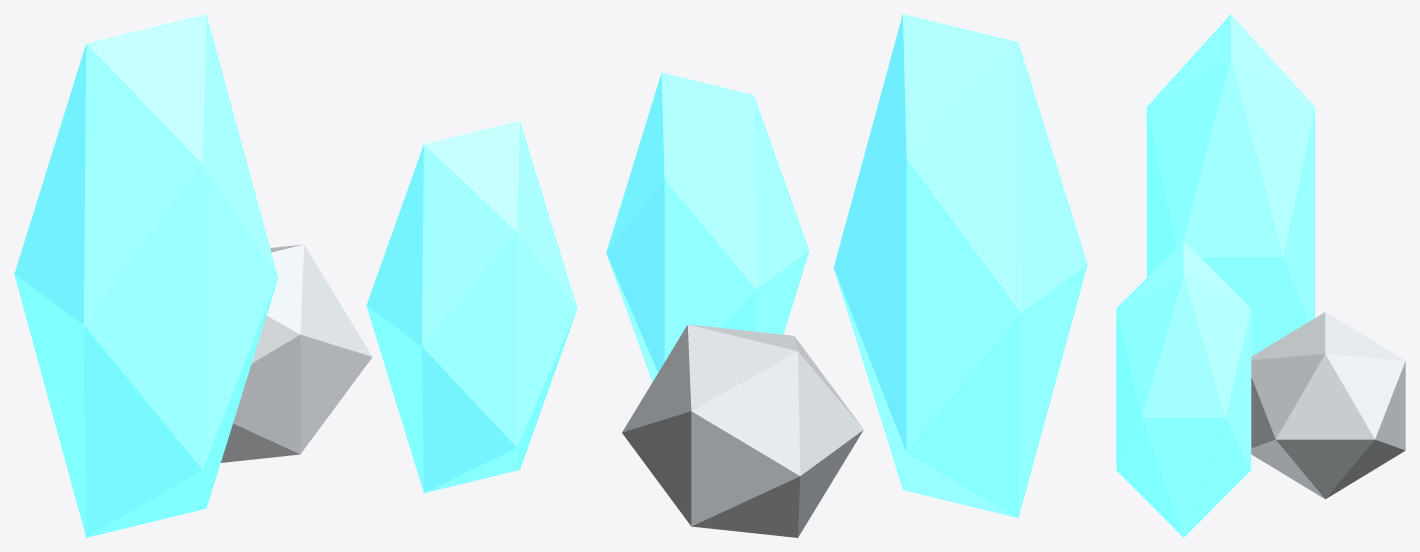
File: deco_ice_3.glb
3 views of the same model, side by side, from view 1: azimuth 30°, elevation 25°; view 2: azimuth 150°, elevation 25°; view 3: azimuth 270°, elevation 25° (orthographic). The views are drawn at different scales.
Parts seen in each view (by area): view 1: deco_ice_3; view 2: deco_ice_3; view 3: deco_ice_3.
Part boxes in pixels (x1,y1,x2,y2): deco_ice_3: [14, 14, 577, 537]; deco_ice_3: [606, 14, 1087, 537]; deco_ice_3: [1116, 14, 1405, 537].
Bounding box in the file's own units: 4.31 × 4.47 × 3.07.
